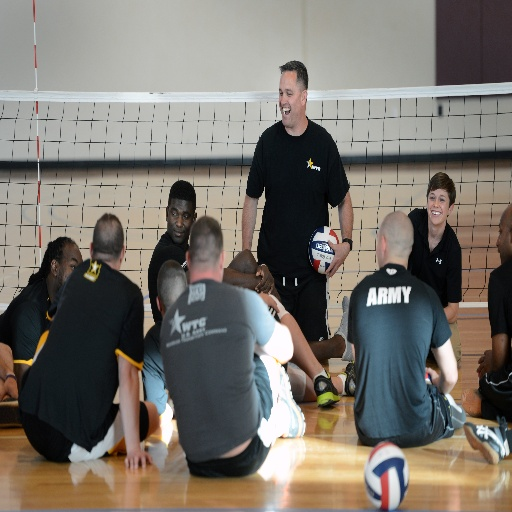hand: (326, 239, 353, 282), (121, 448, 153, 470), (475, 348, 493, 381), (255, 265, 275, 294), (256, 292, 279, 313), (0, 376, 18, 401), (424, 366, 438, 388)
